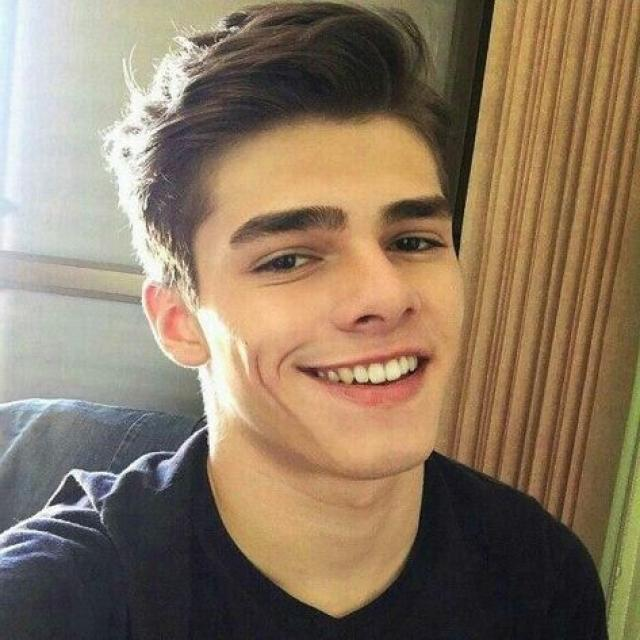earlobe: (140, 278, 208, 371)
